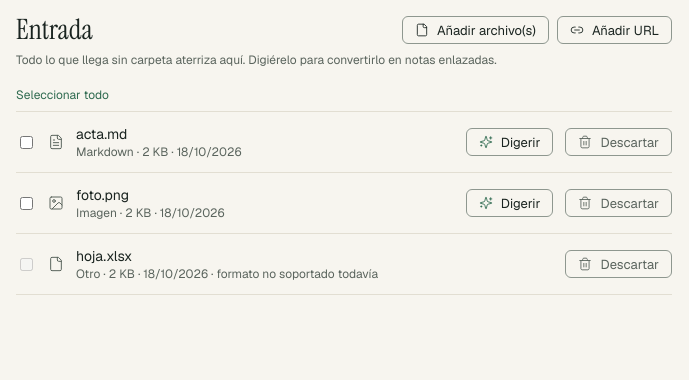
Test case: InboxView › Añadir URL › says when only the link could be saved
The width and height of the screenshot is (689, 380).
Click the button with test id "add-url" at (614, 30), box [557,16,672,44]
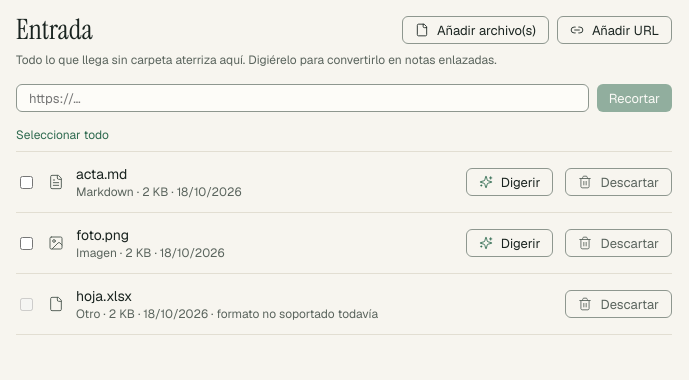
Type "https://example.com/x" into the field with test id "clip-url-input" at (302, 98), box [16,84,589,112]
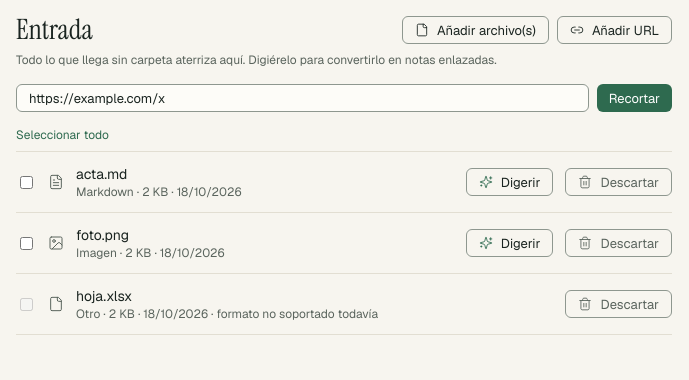
Press Enter in the field with test id "clip-url-input", box [16,84,589,112]
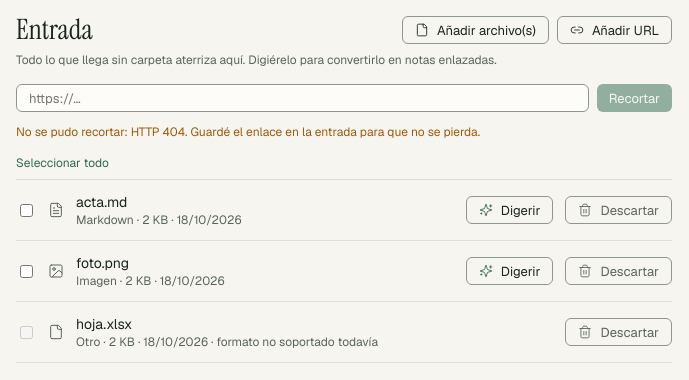
Expected: the message with test id "clip-result" shows "No se pudo recortar: HTTP 404", [16,124,480,140]
Expected: the message with test id "clip-result" shows "enlace", [16,124,480,140]
